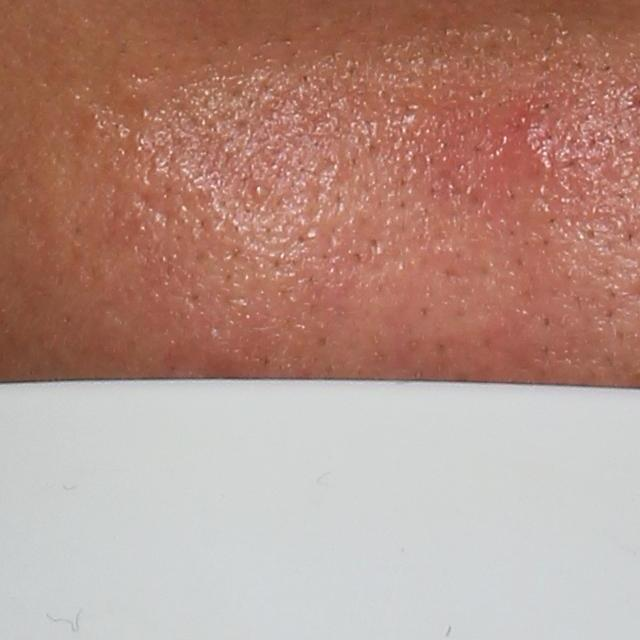comedo: (247, 179, 273, 205)
